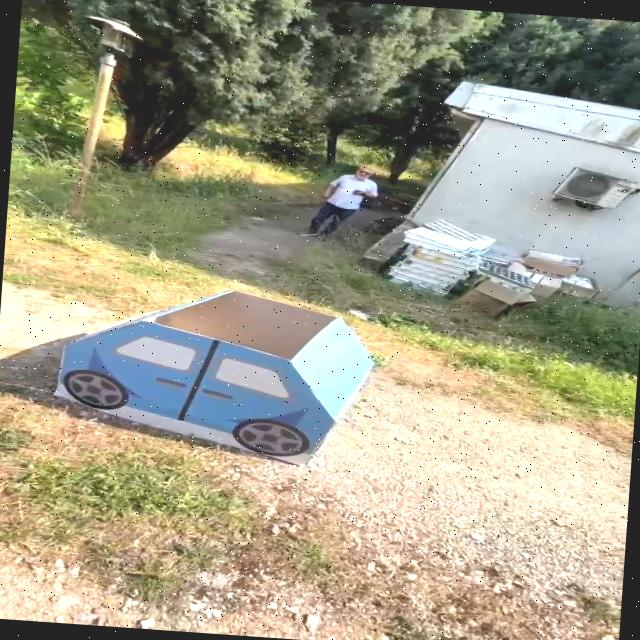blue_car: (22, 258, 403, 483)
